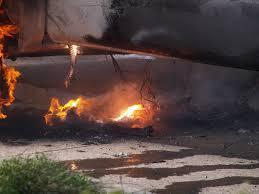fire: (41, 91, 163, 134), (1, 14, 19, 128)
